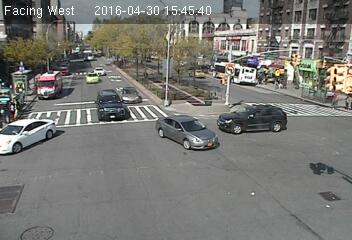neg: (232, 95, 277, 155), (140, 151, 171, 191), (193, 113, 221, 151)
